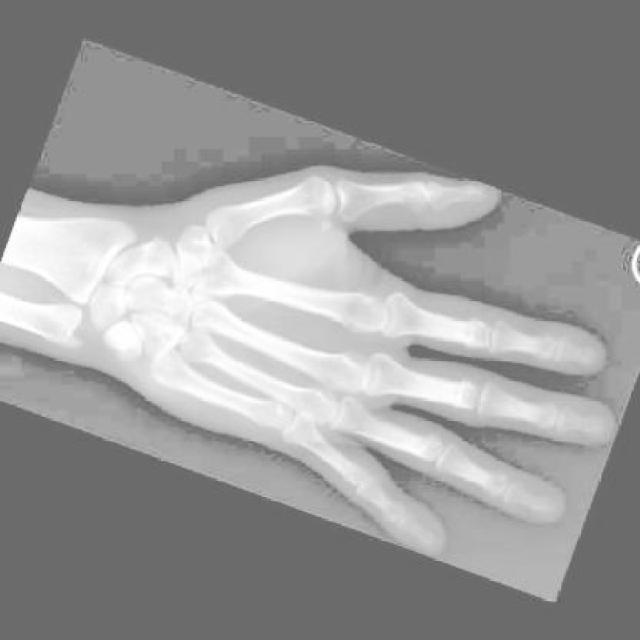Fracture: (129, 332, 169, 377)
